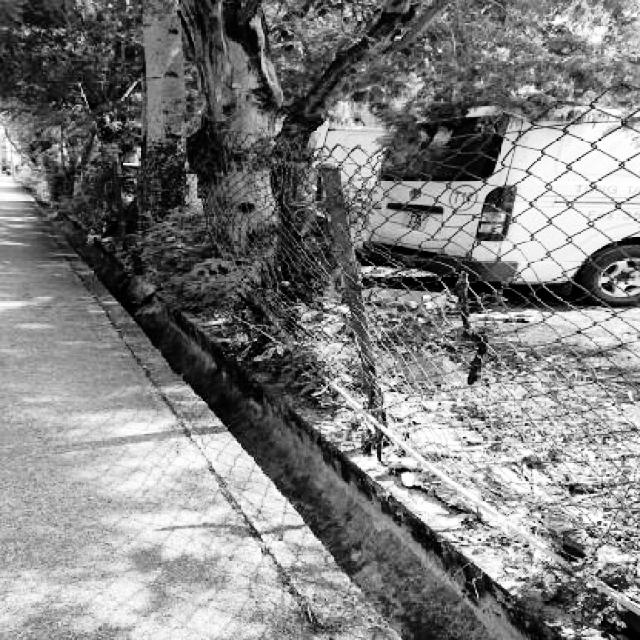anomaly-fence: (223, 112, 451, 409)
